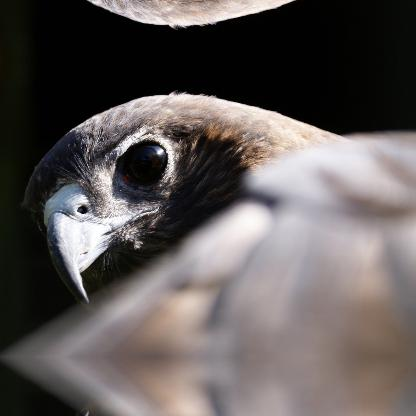Bird: (18, 84, 390, 328)
